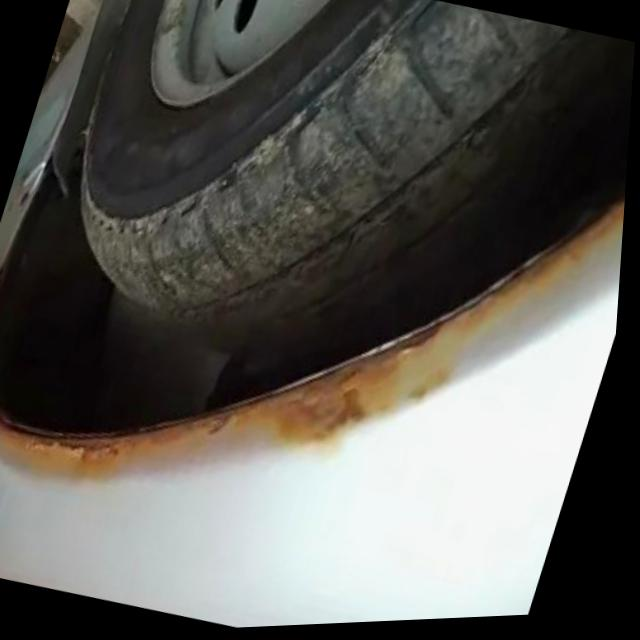Rust: (0, 194, 625, 479)
